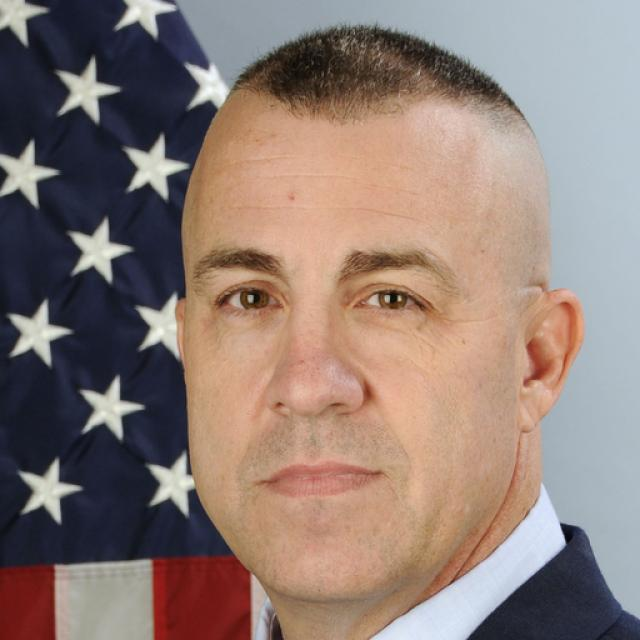Acne: (278, 185, 303, 208)
Wrinkle: (231, 198, 429, 230), (259, 170, 375, 185)
